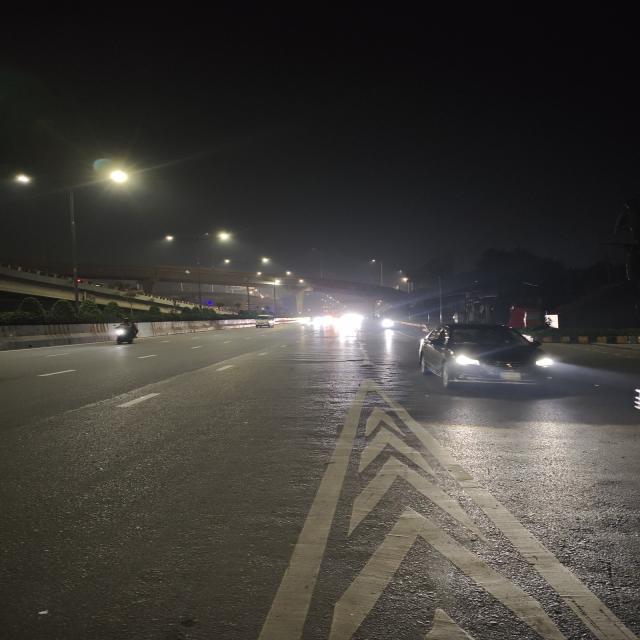car: (412, 320, 564, 400), (254, 314, 274, 332)
motorcycle: (103, 317, 145, 348)
